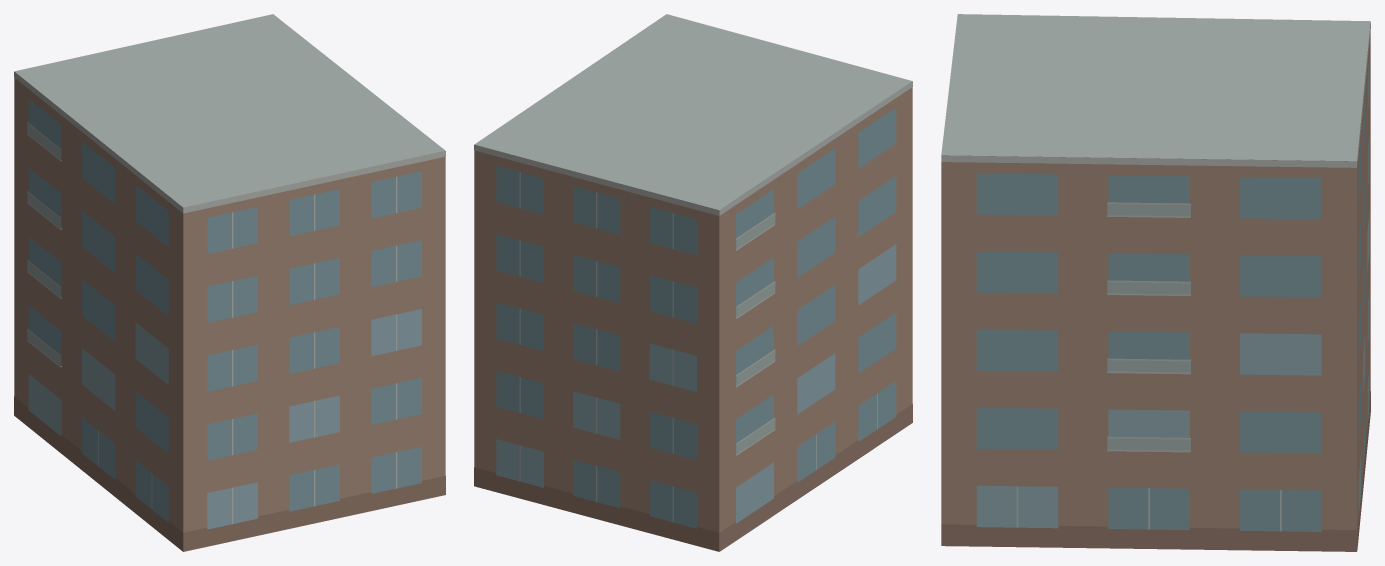
File: survey-upis-32502906.glb
3 views of the same model, side by side, from view 1: azimuth 30°, elevation 25°; view 2: azimuth 150°, elevation 25°; view 3: azimuth 270°, elevation 25° (orthographic). The views are drawn at different scales.
Parts seen in each view (by area): view 1: survey-upis-32502906.tmp; view 2: survey-upis-32502906.tmp; view 3: survey-upis-32502906.tmp.
Boxes of the visible parts, <box> form: survey-upis-32502906.tmp: <box>14,14,445,551</box>; survey-upis-32502906.tmp: <box>474,14,912,551</box>; survey-upis-32502906.tmp: <box>941,14,1370,551</box>.
Bounding box in the file's own units: 11.57 × 14.3 × 14.26.
